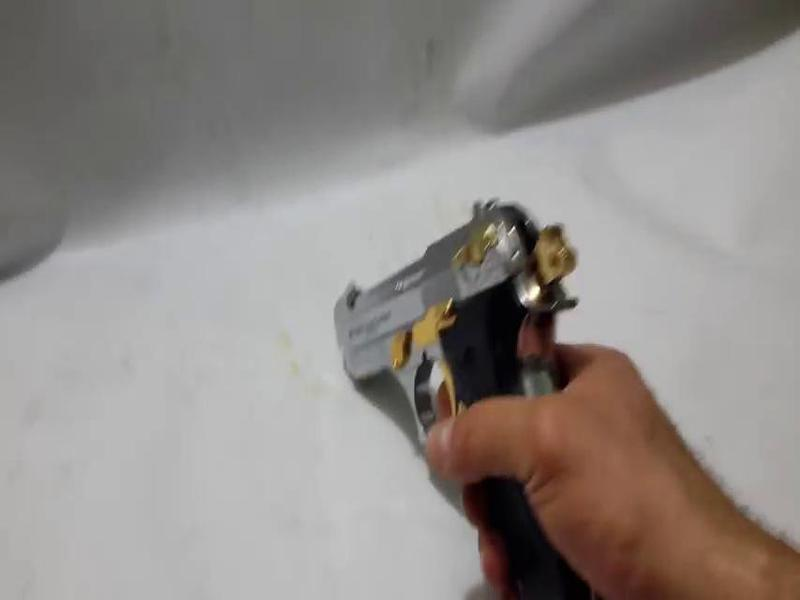Pistola: (309, 214, 580, 597)
